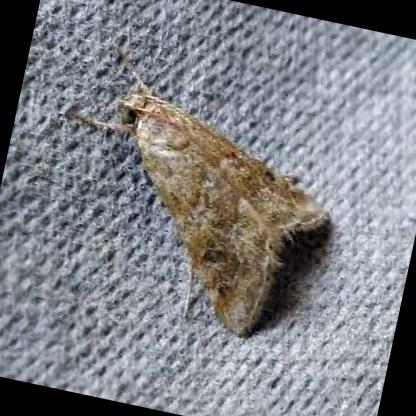Hellula undalis: (51, 26, 335, 350)
